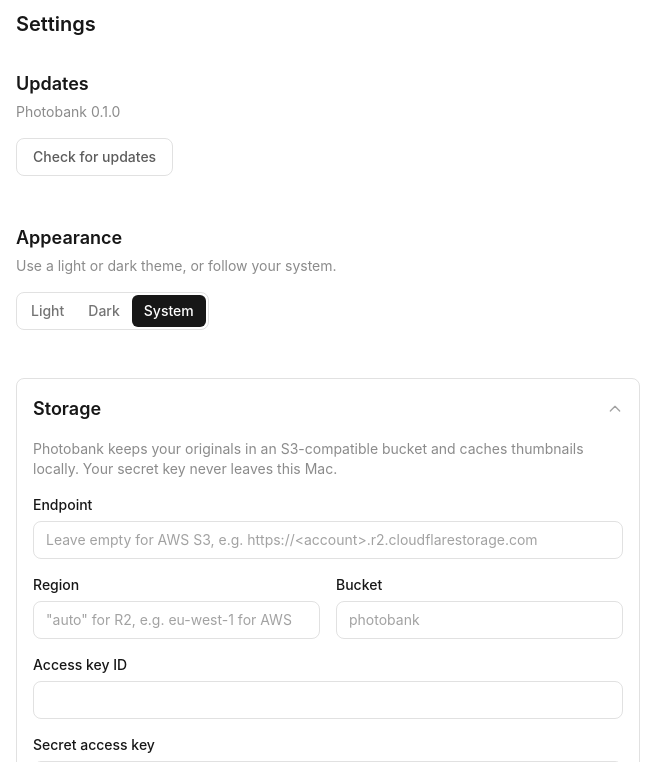
Scenario: Settings updates section › reports being up to date when no newer version exists
Expected: the text "Photobank 0.1.0" is shown, x1=16 y1=103 x2=120 y2=120
Click the button "Check for updates".
click(95, 157)  # box x1=16 y1=138 x2=173 y2=176
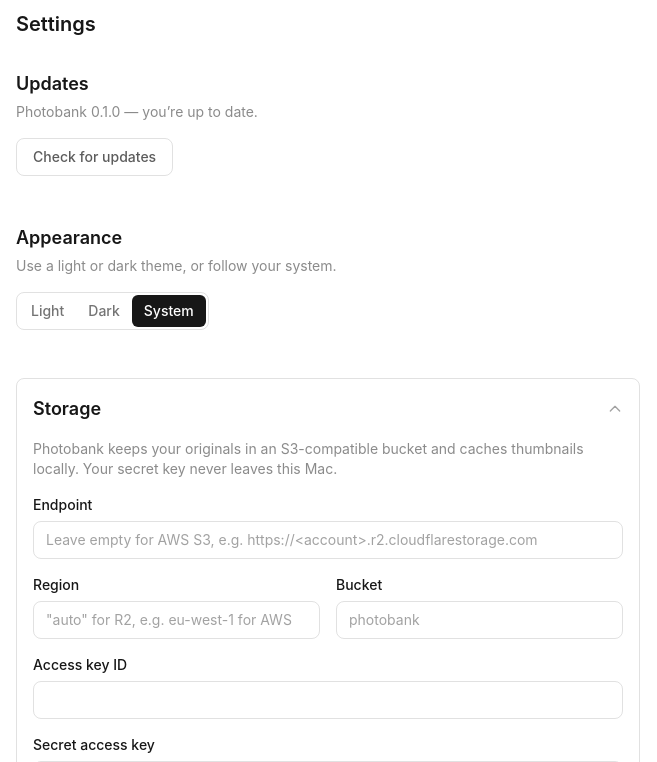
Now the text "Photobank 0.1.0 — you’re up to date." is shown, box x1=16 y1=103 x2=258 y2=120
